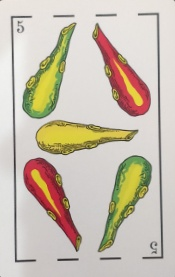5b: (9, 11, 160, 36)
